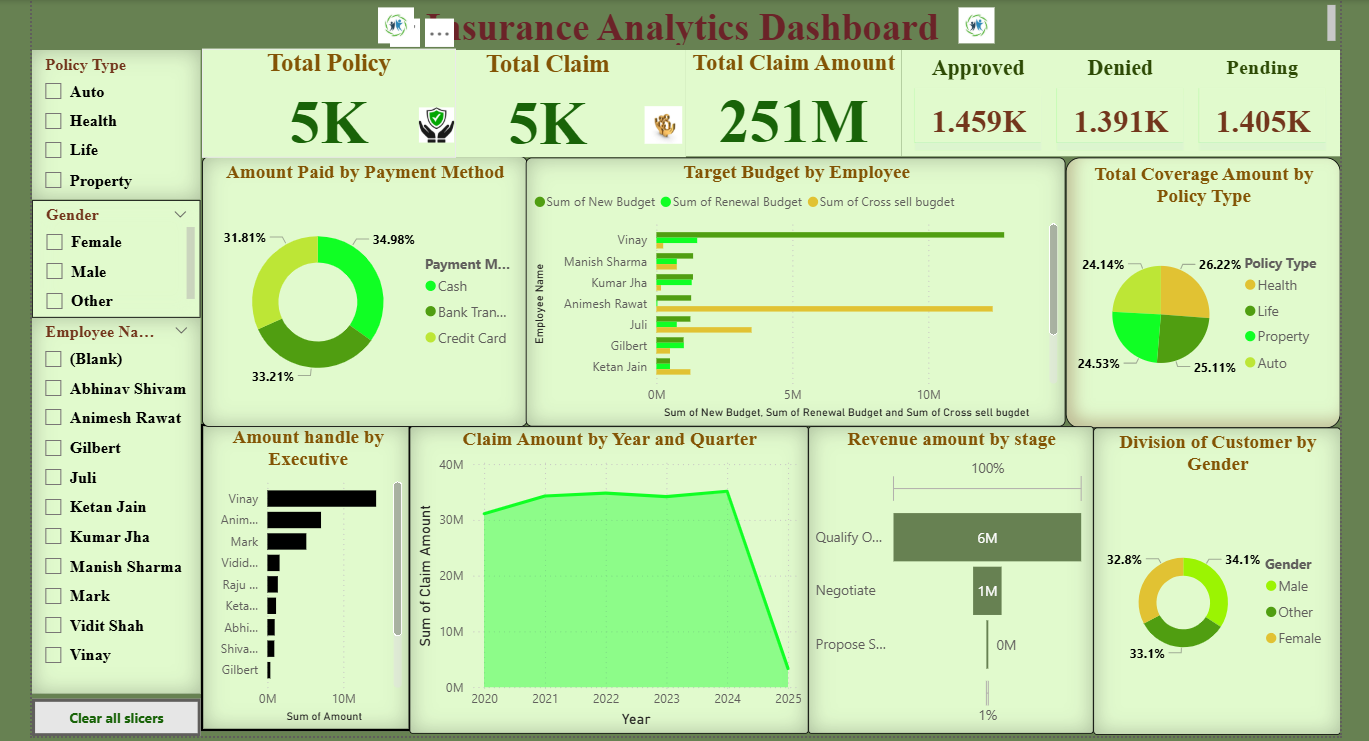

What the dashboard file says about the page in this screenshot:
{"tool":"powerbi","page":{"name":"Page 1","canvas":[1280,720],"ordinal":0},"visuals":[{"type":"barChart","title":"Amount handle by Executive","fields":{"Category":["brokerage_202001231040.Exe Name"],"Y":["brokerage_202001231040.Amount"]},"box":[165.1,414.5,205.4,300.8],"z":0},{"type":"pieChart","title":"Total Coverage Amount by Policy Type","fields":{"Category":["Policy Details.Policy Type"],"Y":["Policy Details.Coverage Amount"]},"box":[1011.2,154.3,268.8,265],"z":1000},{"type":"donutChart","title":"Amount Paid by Payment Method","fields":{"Category":["Payment History.Payment Method"],"Y":["Payment History.Amount Paid"]},"box":[166.3,153,318,264.8],"z":2000},{"type":"clusteredBarChart","title":"Target Budget by Employee","fields":{"Category":["Branch (NN+EN+EE Indi bdgt -20012020 ).Employee Name"],"Y":["Branch (NN+EN+EE Indi bdgt -20012020 ).New Budget","Branch (NN+EN+EE Indi bdgt -20012020 ).Renewal Budget","Branch (NN+EN+EE Indi bdgt -20012020 ).Cross sell bugdet"]},"box":[483,154.1,528.3,262.9],"z":3000},{"type":"donutChart","title":"Division of Customer by Gender","fields":{"Category":["Customer Information.Gender"],"Y":["Customer Information.Customer ID"]},"box":[1037.9,418.2,242.1,300.8],"z":4000},{"type":"actionButton","box":[0,0,100,40],"z":5000},{"type":"slicer","fields":{"Values":["Branch (NN+EN+EE Indi bdgt -20012020 ).Employee Name"]},"box":[0,310.6,165.1,368.1],"z":6000},{"type":"actionButton","box":[0,683.6,165.1,36.7],"z":7000},{"type":"slicer","fields":{"Values":["Policy Details.Policy Type"]},"box":[0,48.9,165.1,146.7],"z":8000},{"type":"slicer","fields":{"Values":["Customer Information.Gender"]},"box":[0,195.7,165.1,114.9],"z":9000},{"type":"textbox","box":[0,0,1280.3,48.9],"z":10000},{"type":"cardVisual","fields":{"Rows":["Claims.Claim Status"],"Data":["Claims.Policy ID"]},"box":[850.8,48.9,429.2,103.9],"z":11000},{"type":"lineChart","title":"Claim Amount by Year and Quarter","fields":{"Category":["Claims.Settlement Date.Variation.Date Hierarchy.Year","Claims.Settlement Date.Variation.Date Hierarchy.Quarter","Claims.Settlement Date.Variation.Date Hierarchy.Month","Claims.Settlement Date.Variation.Date Hierarchy.Day"],"Y":["Claims.Claim Amount"]},"box":[369.3,417,390.1,300.8],"z":12000},{"type":"funnel","title":"Revenue amount by stage","fields":{"Category":["gcrm_opportunity_202001231041.stage"],"Y":["gcrm_opportunity_202001231041.revenue_amount"]},"box":[759.4,417,278.8,300.8],"z":13000},{"type":"card","title":"Total Claim","fields":{"Values":["Claims.Claim ID"]},"box":[369.3,48.9,270.2,105.2],"z":14000},{"type":"card","title":"Total Policy","fields":{"Values":["Policy Details.Policy ID"]},"box":[166.3,47.7,248.2,106.4],"z":15000},{"type":"card","title":"Total Claim Amount","fields":{"Values":["Claims.Claim Amount"]},"box":[639.5,48.9,211.6,103.9],"z":16000},{"type":"image","box":[326,2.7,59.9,45.2],"z":17000},{"type":"image","box":[899.5,2.7,47.9,45.2],"z":18000},{"type":"image","box":[583.3,99,68.5,46.5],"z":19000},{"type":"image","box":[370.5,100.3,50.1,44],"z":20000}]}

Visuals, with their boxes in screenshot pixels (x1, y1, x2, y2):
"Amount handle by Executive" barChart: [196,417,405,723]
"Total Coverage Amount by Policy Type" pieChart: [1056,153,1329,422]
"Amount Paid by Payment Method" donutChart: [197,152,520,421]
"Target Budget by Employee" clusteredBarChart: [519,153,1056,420]
"Division of Customer by Gender" donutChart: [1083,421,1329,727]
actionButton: [29,0,130,37]
slicer - Branch (NN+EN+EE Indi bdgt -20012020 ).Employee Name: [29,312,196,686]
actionButton: [29,691,196,728]
slicer - Policy Details.Policy Type: [29,46,196,195]
slicer - Customer Information.Gender: [29,195,196,312]
textbox: [29,0,1329,46]
cardVisual - Claims.Claim Status x Claims.Policy ID: [893,46,1329,152]
"Claim Amount by Year and Quarter" lineChart: [404,420,800,725]
"Revenue amount by stage" funnel: [800,420,1083,725]
"Total Claim" card: [404,46,678,153]
"Total Policy" card: [197,45,450,153]
"Total Claim Amount" card: [678,46,893,152]
image: [360,0,420,45]
image: [942,0,991,45]
image: [621,97,691,144]
image: [405,98,456,143]
